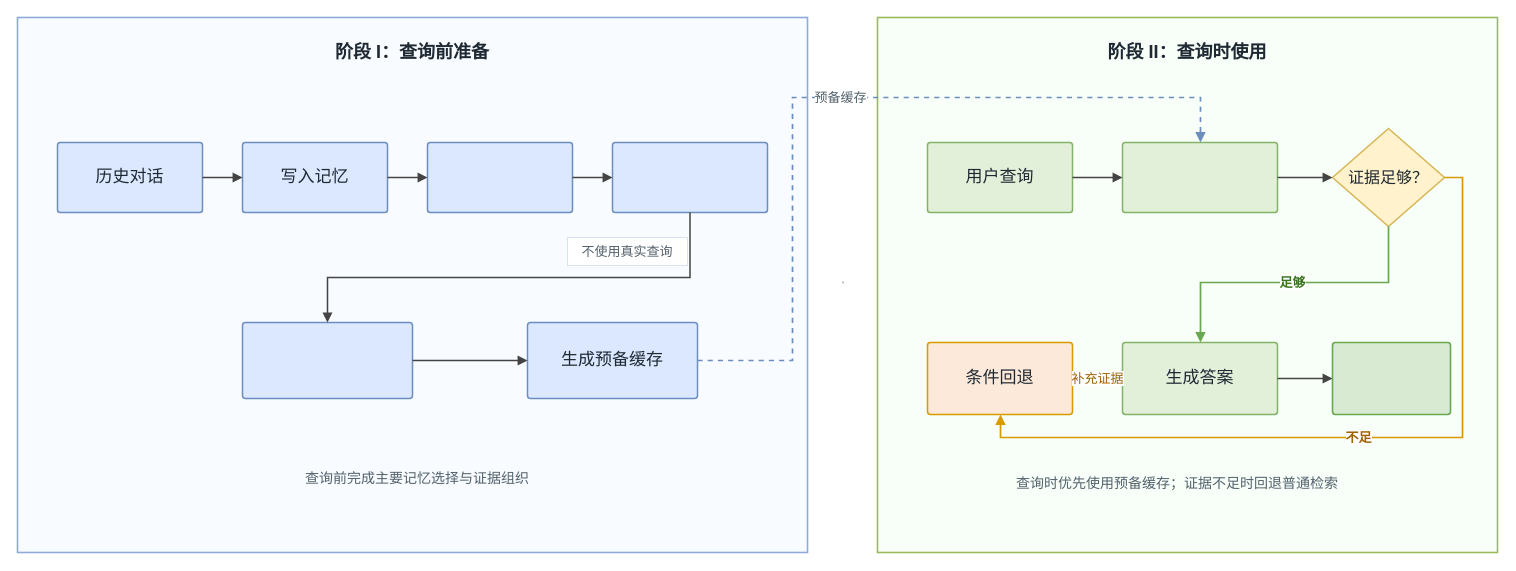
The diagram is 1516 pixels wide and 571 high, and some of its shapes have lost their labels. The shapes that lost their labels are listed below. From the top down, each one's box as (x1, y1, x2, y2) in pixels, then its label:
(426, 141, 573, 213): 构建记忆图
(611, 141, 768, 213): 预测未来意图
(1121, 141, 1278, 213): 缓存内选择
(241, 321, 413, 399): 推理证据缺口
(1331, 341, 1451, 415): 最终回答
